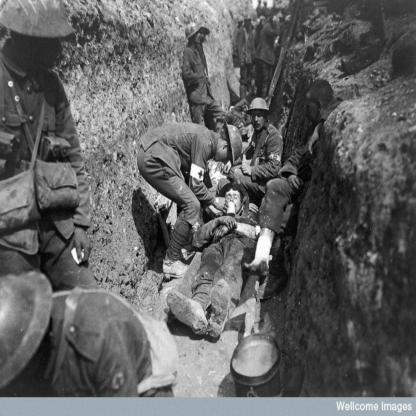Helmet: (0, 266, 50, 382), (0, 0, 76, 39), (244, 95, 270, 132), (222, 121, 242, 164), (182, 23, 202, 40), (199, 23, 212, 38), (243, 12, 254, 23), (235, 14, 240, 28)
